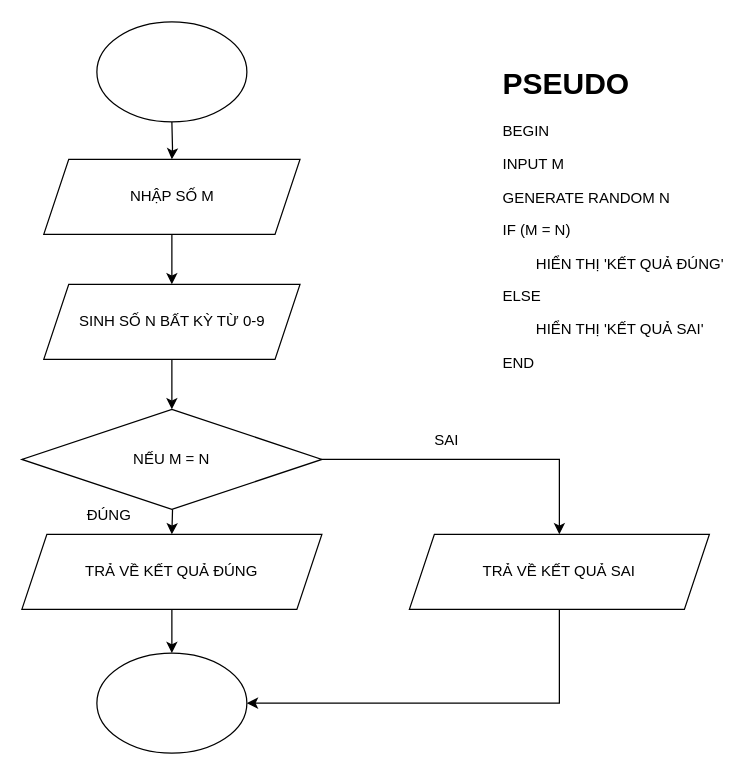
Image size: 756x775. Some labels were removed from this diagram. The shapes that lost their labels are listed below. From the top down, each one's centre as x and y in pixels, then its label:
At (x=171, y=71): "BẮT ĐẦU".
At (x=171, y=702): "KẾT THÚC".
